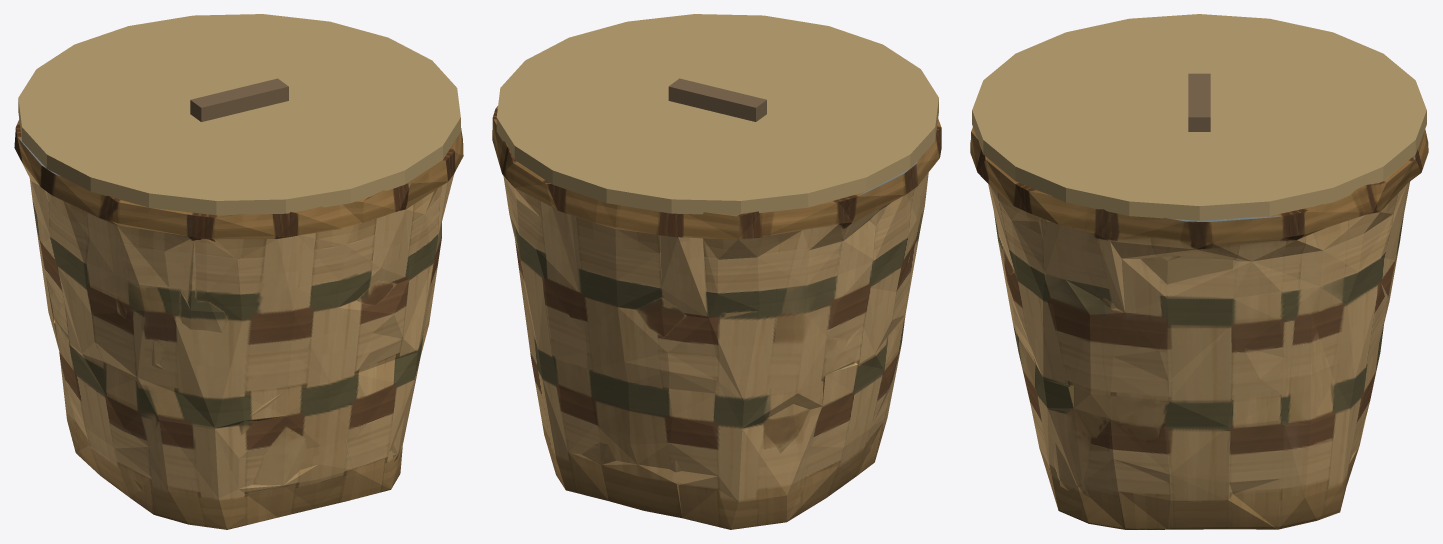
File: S15_lidded_grain_basket_a.glb
The picture shows the model from 3 angles, left to right: view 1: azimuth 30°, elevation 25°; view 2: azimuth 150°, elevation 25°; view 3: azimuth 270°, elevation 25°; orthographic projection. The views are drawn at different scales.
Visible parts, largest first — view 1: Mesh_0; view 2: Mesh_0; view 3: Mesh_0.
Part boxes in pixels (left/top/right/bottom): Mesh_0: left=14, top=14, right=463, bottom=529; Mesh_0: left=492, top=14, right=941, bottom=529; Mesh_0: left=970, top=14, right=1428, bottom=529.
Size of the model in its own units: 0.7162 by 0.65 by 0.7177.
Materials: 4 (1 with a texture image).
